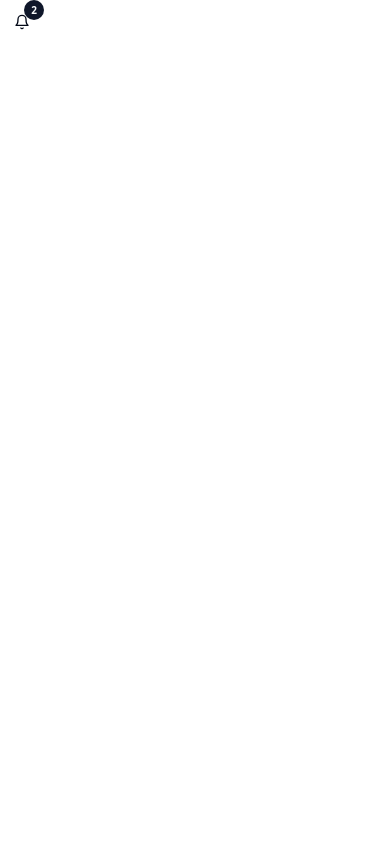
Test case: Activity Center › shows an error message without repeating the toast
Later steps or results of the test are not shown.
Click the button named "activity center" at (22, 22), box [0,0,44,44]
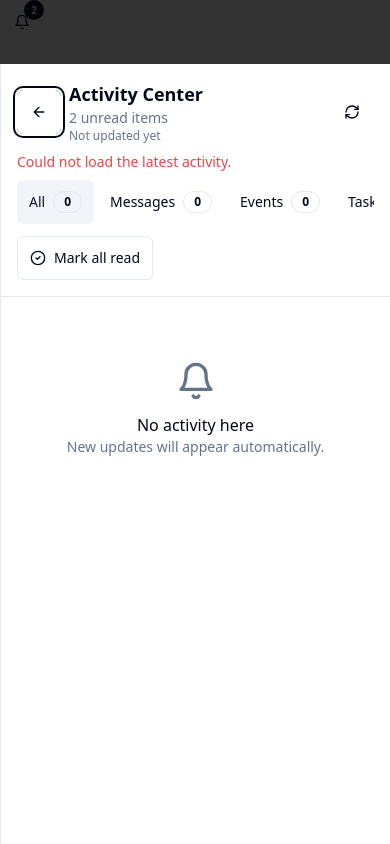
Expected: the heading "Activity Center" is shown, [69,82,203,106]
Expected: the message shows "Could not load the latest activity", [17,152,231,171]
